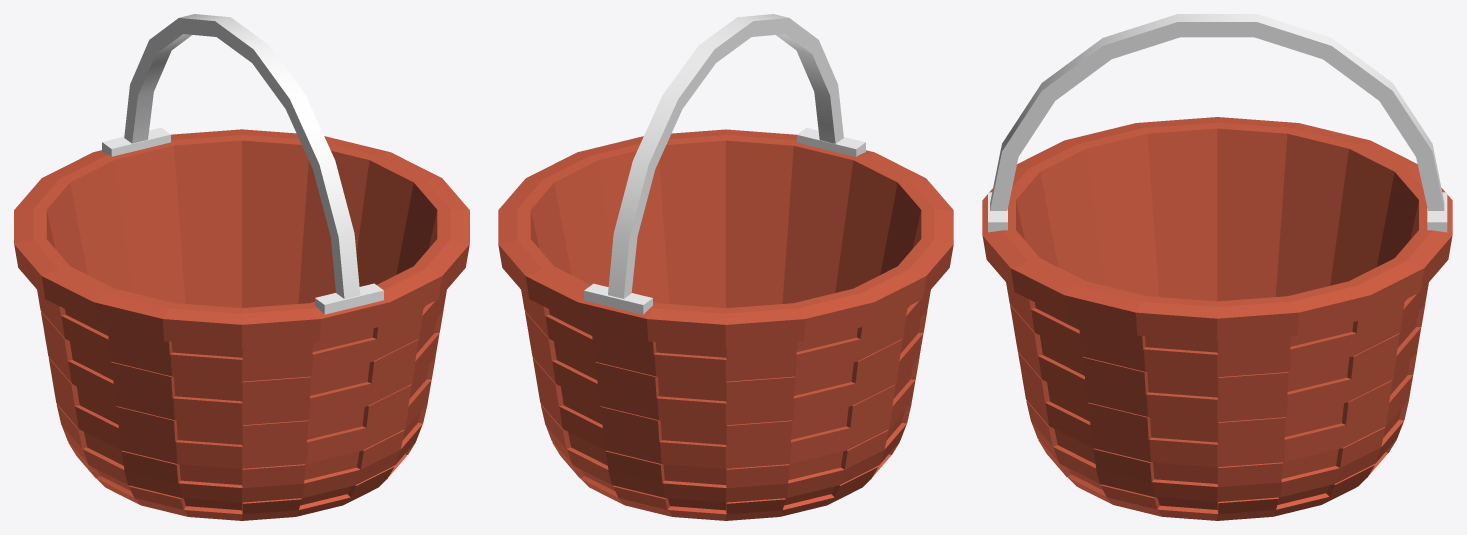
Rendered from Basket.obj.
3 renders of one model, left to right at view 1: azimuth 30°, elevation 25°; view 2: azimuth 150°, elevation 25°; view 3: azimuth 270°, elevation 25°, orthographic. The views are drawn at different scales.
Visible parts, largest first — view 1: Cylinder001, Cylinder002, Box001, Box002; view 2: Cylinder001, Cylinder002, Box002, Box001; view 3: Cylinder001, Cylinder002.
Part boxes in pixels (bbox=[...]): Cylinder001: bbox=[14, 129, 469, 520]; Cylinder002: bbox=[124, 14, 360, 298]; Box001: bbox=[315, 283, 383, 314]; Box002: bbox=[102, 127, 170, 156]; Cylinder001: bbox=[498, 129, 953, 520]; Cylinder002: bbox=[608, 14, 843, 298]; Box002: bbox=[584, 283, 652, 314]; Box001: bbox=[797, 128, 865, 156]; Cylinder001: bbox=[982, 117, 1452, 520]; Cylinder002: bbox=[990, 14, 1444, 210].
Bounding box in the file's own units: 112477 × 116129 × 110768.
